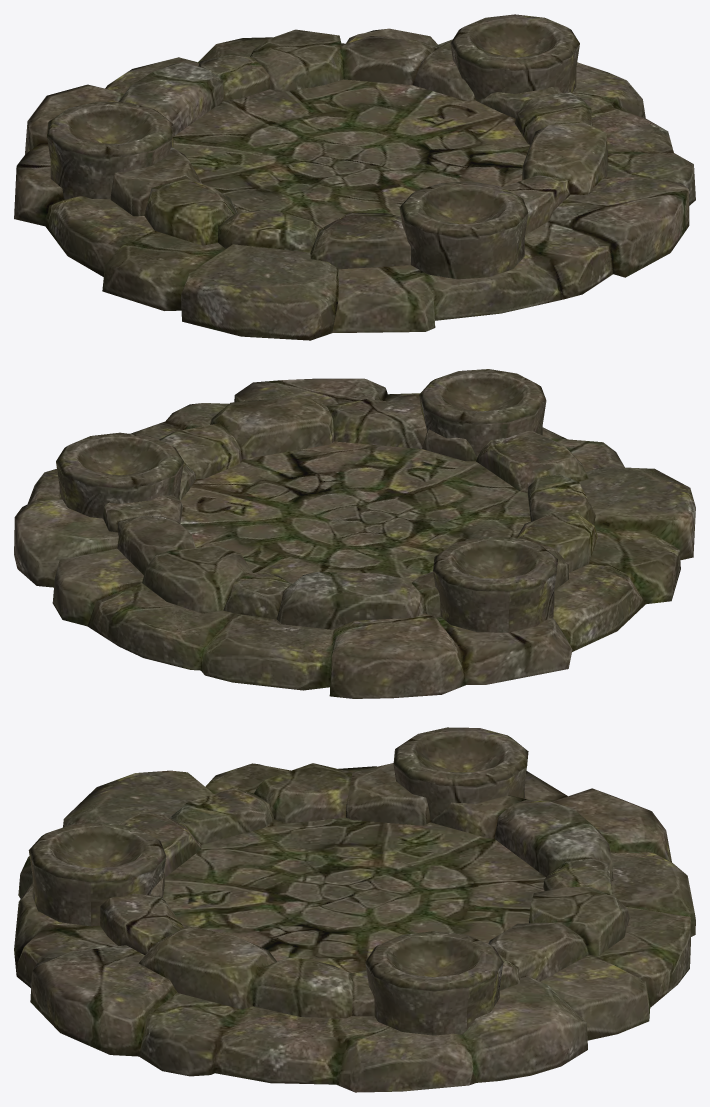
File: Teleporter-transformed.glb
3 renders of one model, top to bottom at view 1: azimuth 30°, elevation 25°; view 2: azimuth 150°, elevation 25°; view 3: azimuth 270°, elevation 25°, orthographic. The views are drawn at different scales.
Visible parts, largest first — view 1: default; view 2: default; view 3: default.
Boxes of the visible parts, bbox=[...] form: default: bbox=[14, 14, 695, 340]; default: bbox=[14, 369, 695, 698]; default: bbox=[14, 727, 695, 1092].
Bounding box in the file's own units: 4.98 × 0.6694 × 4.76.
1 material, 1 textured.
